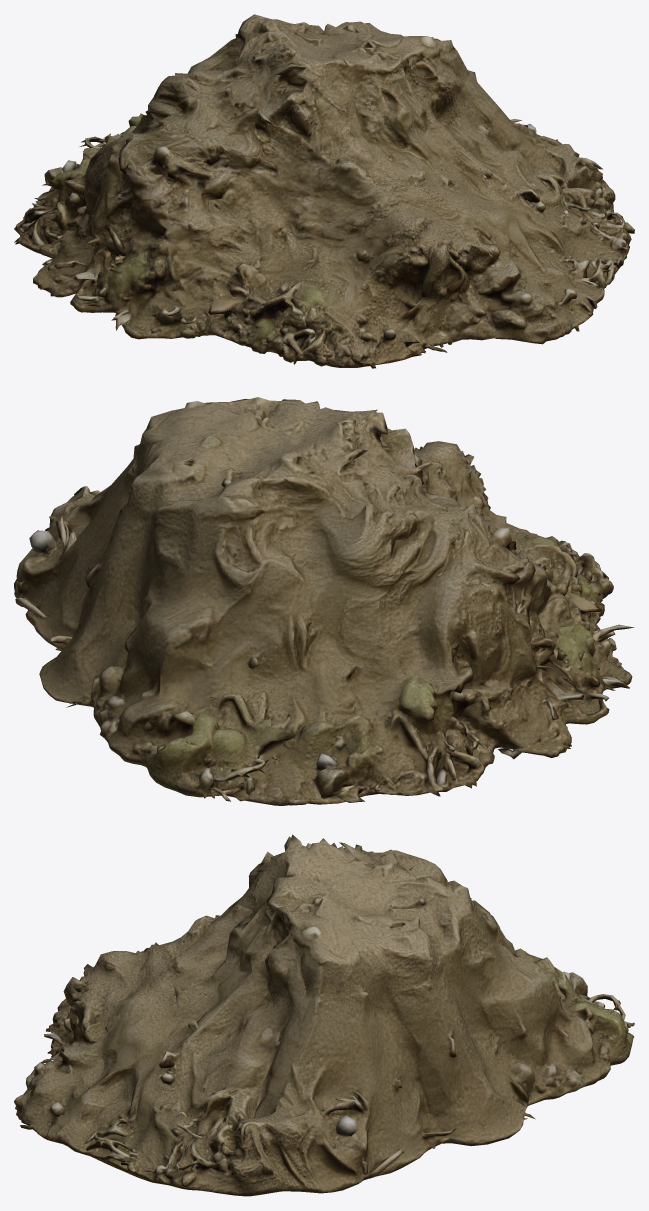
Rendered from tripo_convert_ea7c8108-31a7-4fc3-bd2d-6eb1b817081f.fbx.
3 renders of one model, top to bottom at view 1: azimuth 30°, elevation 25°; view 2: azimuth 150°, elevation 25°; view 3: azimuth 270°, elevation 25°, orthographic. The views are drawn at different scales.
Parts seen in each view (by area): view 1: tripo_node_ea7c8108; view 2: tripo_node_ea7c8108; view 3: tripo_node_ea7c8108.
Part boxes in pixels (x1,y1,x2,y2): tripo_node_ea7c8108: (14, 14, 634, 368); tripo_node_ea7c8108: (14, 397, 634, 805); tripo_node_ea7c8108: (14, 834, 634, 1196).
Bounding box in the file's own units: 0.9424 × 0.3799 × 0.9779.
1 material, 1 textured.
